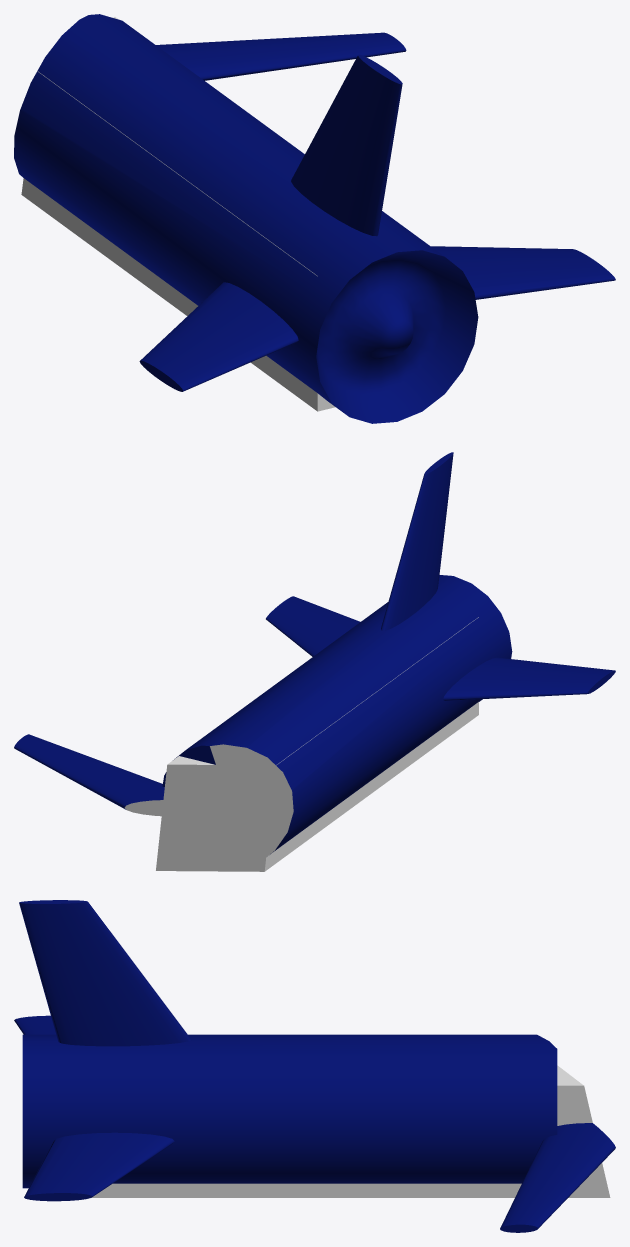
The model's file is spaceship_half2.fbx.
3 renders of one model, top to bottom at view 1: azimuth 30°, elevation 25°; view 2: azimuth 150°, elevation 25°; view 3: azimuth 270°, elevation 25°, orthographic. The views are drawn at different scales.
Parts seen in each view (by area): view 1: polySurface14; view 2: polySurface14; view 3: polySurface14.
Boxes of the visible parts, box(x1,y1,x2,y2) form: polySurface14: box(14, 14, 615, 423); polySurface14: box(14, 452, 615, 871); polySurface14: box(14, 900, 615, 1232).
Bounding box in the file's own units: 418 × 261 × 507.
